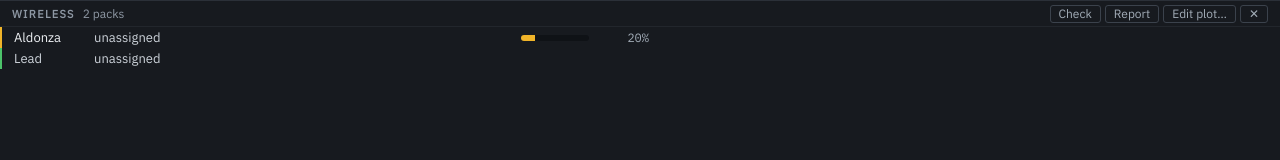
Scenario: RfPanel › the check › says worth a look, not not ready, when nothing is worse than that
Click the button with class "rf-btn" showing "Check" at (1075, 14), box [1050,4,1101,22]
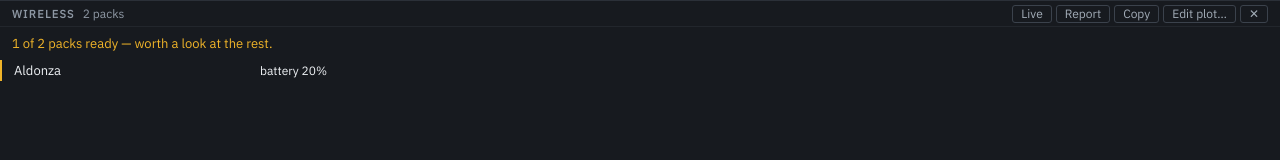
Result: the text with class "rf-check-verdict" reads "1 of 2 packs ready — worth a look at the rest." at [12,35,272,52]
